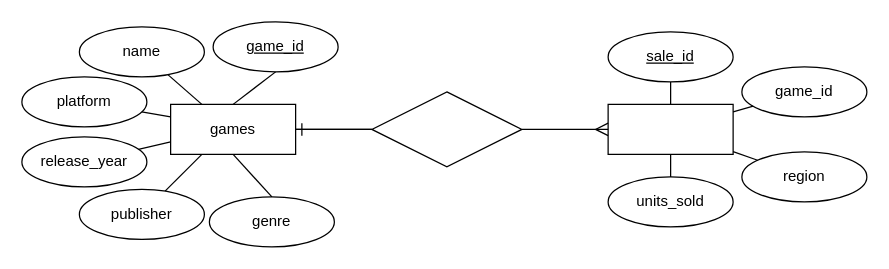
The diagram is 889 pixels wide and 269 high, and some of its shapes have lost their labels. The shapes that lost their labels are listed below. From the top down, each one's centre as x and y in pixels, then its label:
At point 446,129: "have".
At point 670,128: "sales".
